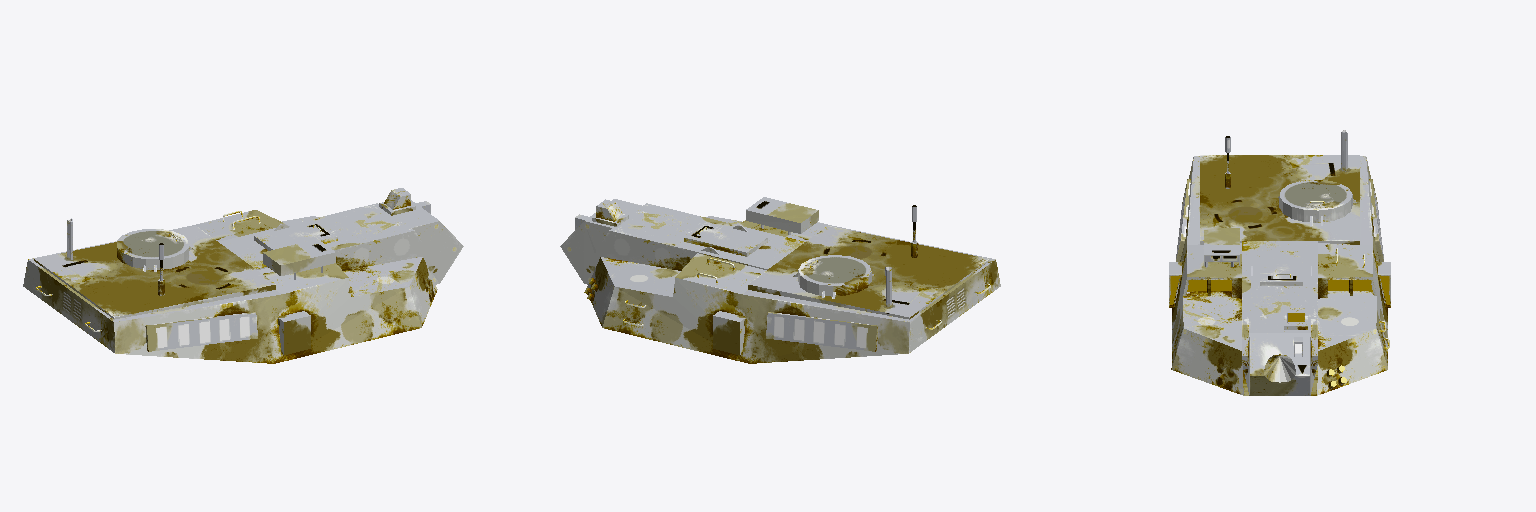
The picture shows the model from 3 angles: view 1: azimuth 30°, elevation 25°; view 2: azimuth 150°, elevation 25°; view 3: azimuth 270°, elevation 25°; orthographic projection.
Parts seen in each view (by area): view 1: tun_textures.004; view 2: tun_textures.004; view 3: tun_textures.004.
Boxes of the visible parts, x1=… form: tun_textures.004: x1=23, y1=188, x2=463, y2=363; tun_textures.004: x1=560, y1=197, x2=1000, y2=363; tun_textures.004: x1=1169, y1=130, x2=1390, y2=395.
Bounding box in the file's own units: 6.85 × 2.04 × 3.42.
Materials: 1 (1 with a texture image).